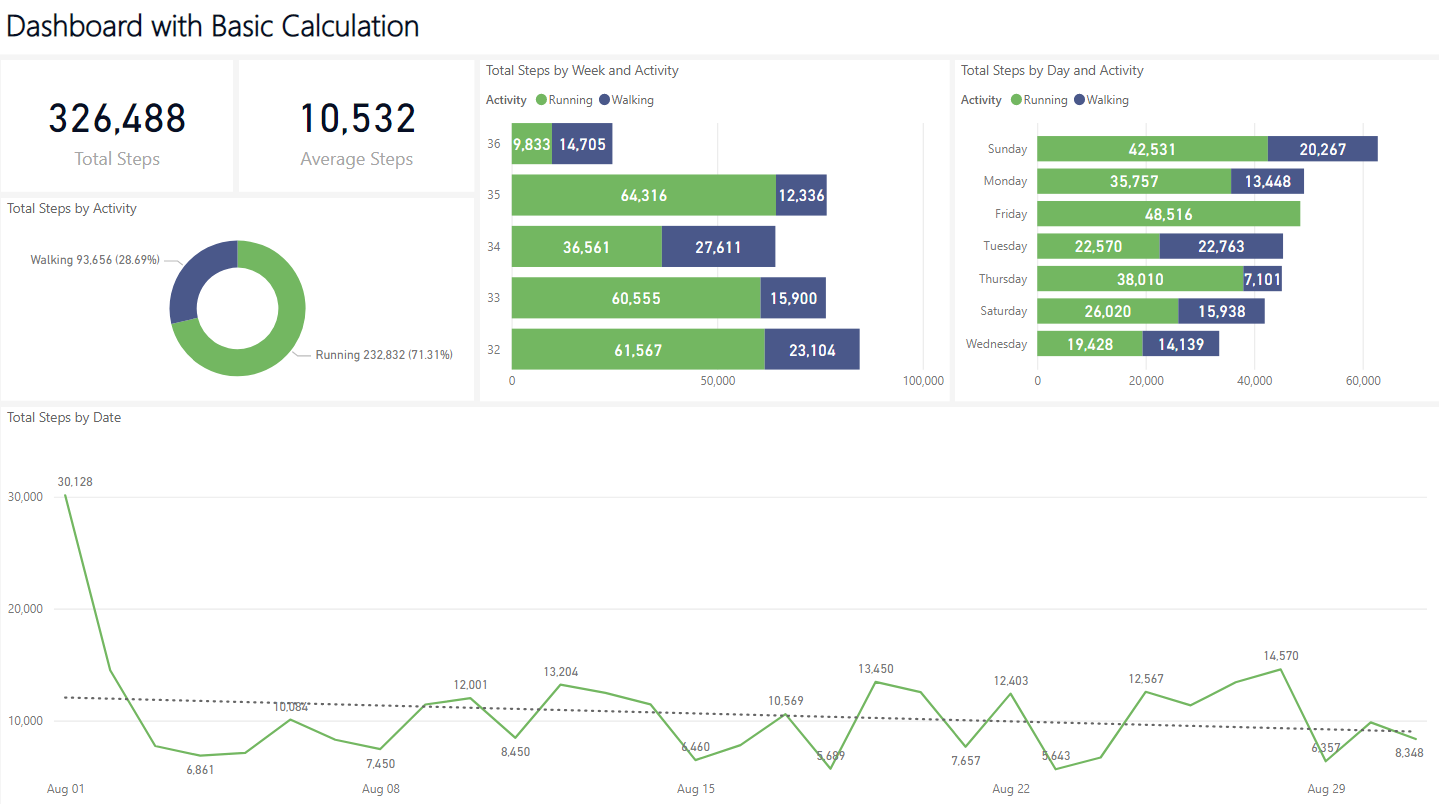

What the dashboard file says about the page in this screenshot:
{"tool":"powerbi","page":{"name":"Basic Analysis","canvas":[1280,720],"ordinal":0},"visuals":[{"type":"textbox","box":[0,0,1280,49.6],"z":0},{"type":"card","fields":{"Values":["Basic Calculations.Total Steps"]},"box":[0.9,55,206,117.2],"z":1000},{"type":"card","fields":{"Values":["Basic Calculations.Average Steps"]},"box":[212.2,55,208.6,117.2],"z":2000},{"type":"donutChart","title":"Total Steps by Activity","fields":{"Y":["Sum(FACT_Activity.Steps)"],"Series":["DIM_Activity.ActivityName"]},"box":[0.9,177.6,419.9,180.2],"z":3000},{"type":"lineChart","fields":{"Category":["DIM_Date.Date"],"Y":["Basic Calculations.Total Steps"]},"box":[0.9,363.1,1278.4,356.9],"z":4000},{"type":"barChart","fields":{"Y":["Basic Calculations.Total Steps"],"Category":["DIM_Date.Week of Year"],"Series":["DIM_Activity.ActivityName"]},"box":[426.1,55,417.3,302.7],"z":5000},{"type":"barChart","fields":{"Y":["Basic Calculations.Total Steps"],"Series":["DIM_Activity.ActivityName"],"Category":["DIM_Date.Day Name"]},"box":[847.8,55,431.5,302.7],"z":6000}]}

Visuals, with their boxes in screenshot pixels (x1, y1, x2, y2), scaled from the page's 1280x720 canvas onto the 1439x804 screenshot:
textbox: left=0, top=0, right=1438, bottom=55
card - Basic Calculations.Total Steps: left=1, top=61, right=233, bottom=192
card - Basic Calculations.Average Steps: left=239, top=61, right=473, bottom=192
"Total Steps by Activity" donutChart: left=1, top=198, right=473, bottom=400
lineChart - DIM_Date.Date x Basic Calculations.Total Steps: left=1, top=405, right=1438, bottom=803
barChart - Basic Calculations.Total Steps x DIM_Date.Week of Year: left=479, top=61, right=948, bottom=399
barChart - Basic Calculations.Total Steps x DIM_Activity.ActivityName: left=953, top=61, right=1438, bottom=399
